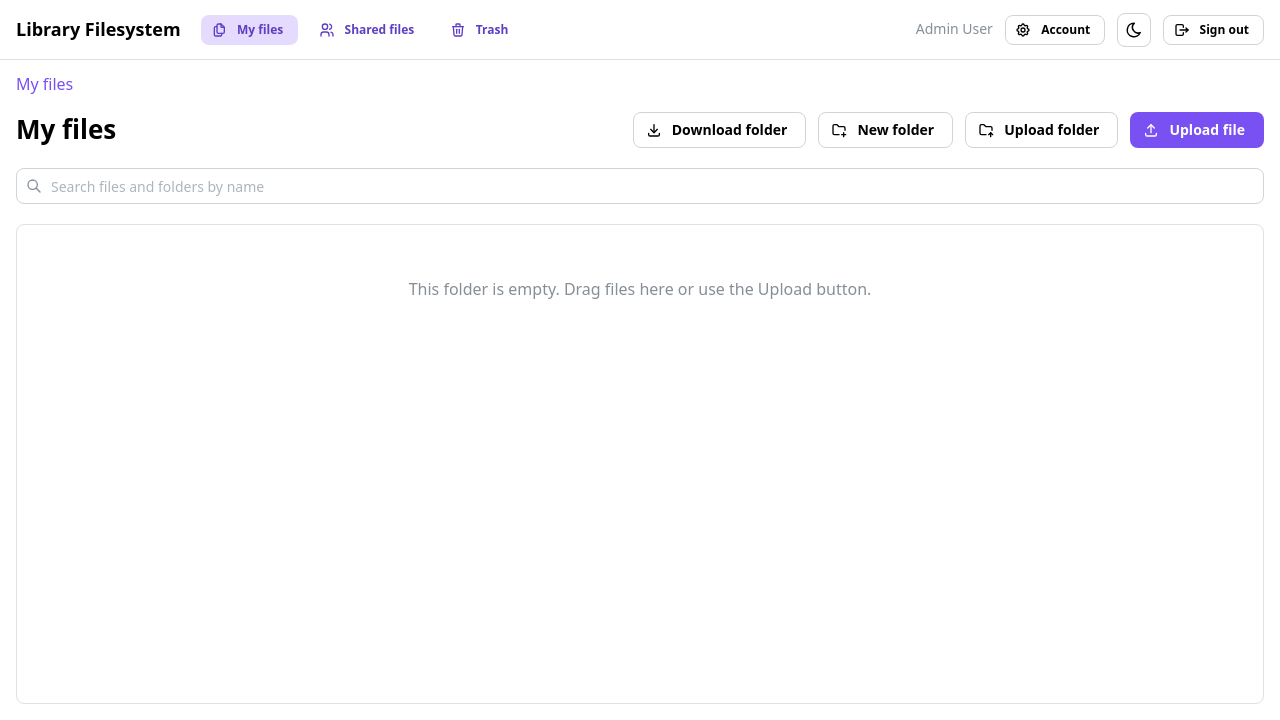
Test: App › opens the account page
Expected: the heading "My files" is shown, left=16, top=112, right=116, bottom=148
Click the button "Account": (1055, 30) left=1005, top=14, right=1105, bottom=44
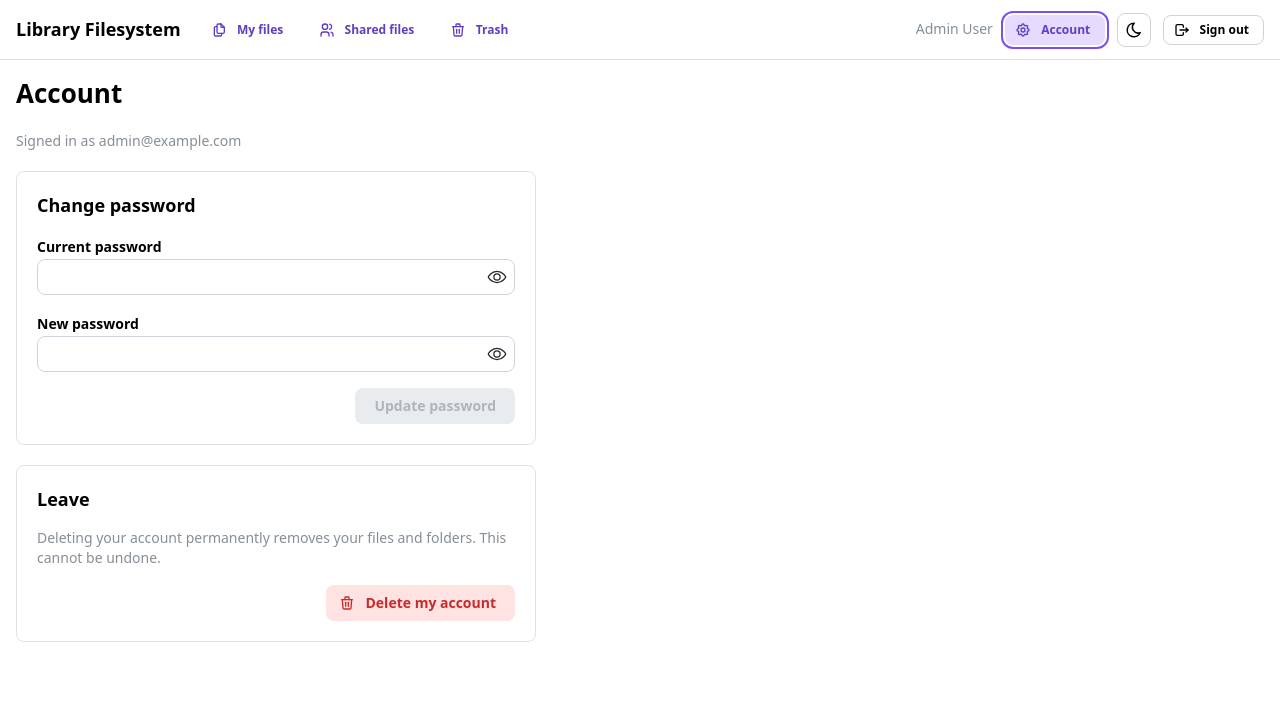
Expected: the heading "Account" is shown, left=16, top=75, right=122, bottom=111
